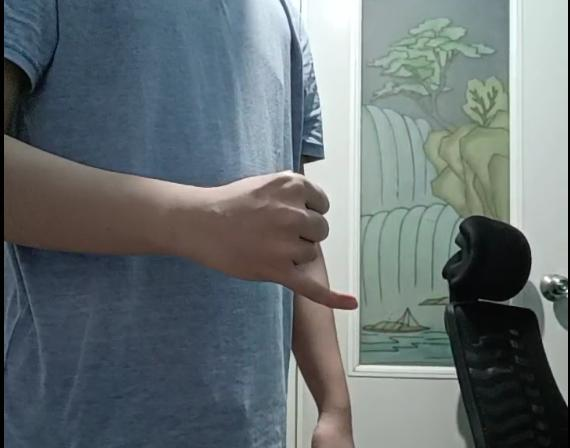j: (211, 170, 362, 312)
